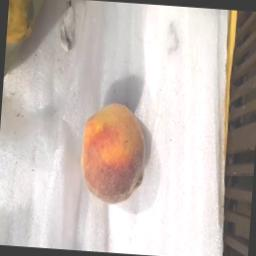Peach Unripe: (64, 90, 166, 216)
